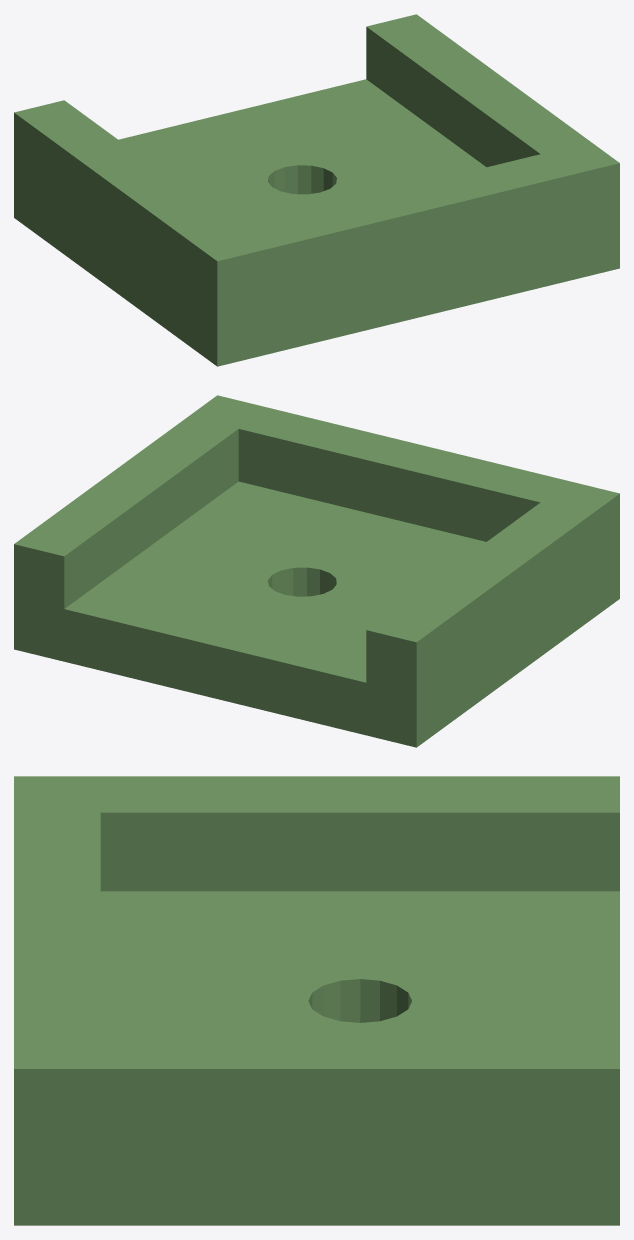
The model's file is Dead End with Hole (OLD).fbx.
3 renders of one model, top to bottom at view 1: azimuth 30°, elevation 25°; view 2: azimuth 150°, elevation 25°; view 3: azimuth 270°, elevation 25°, orthographic. The views are drawn at different scales.
Parts seen in each view (by area): view 1: Border_3, Path, Border_2, Border_1; view 2: Path, Border_2, Border_3, Border_1; view 3: Border_1, Path, Border_2, Border_3.
Boxes of the visible parts, left/top/right/bottom form: Border_3: left=188, top=142, right=619, bottom=366; Path: left=118, top=79, right=485, bottom=227; Border_2: left=14, top=100, right=238, bottom=344; Border_1: left=366, top=14, right=590, bottom=167; Path: left=64, top=481, right=485, bottom=735; Border_2: left=366, top=502, right=590, bottom=747; Border_3: left=188, top=395, right=619, bottom=619; Border_1: left=14, top=416, right=238, bottom=661; Border_1: left=100, top=1032, right=619, bottom=1225; Path: left=100, top=891, right=619, bottom=1032; Border_2: left=100, top=776, right=619, bottom=891; Border_3: left=14, top=776, right=100, bottom=1225.
Size of the model in its own units: 800 by 200 by 700.
